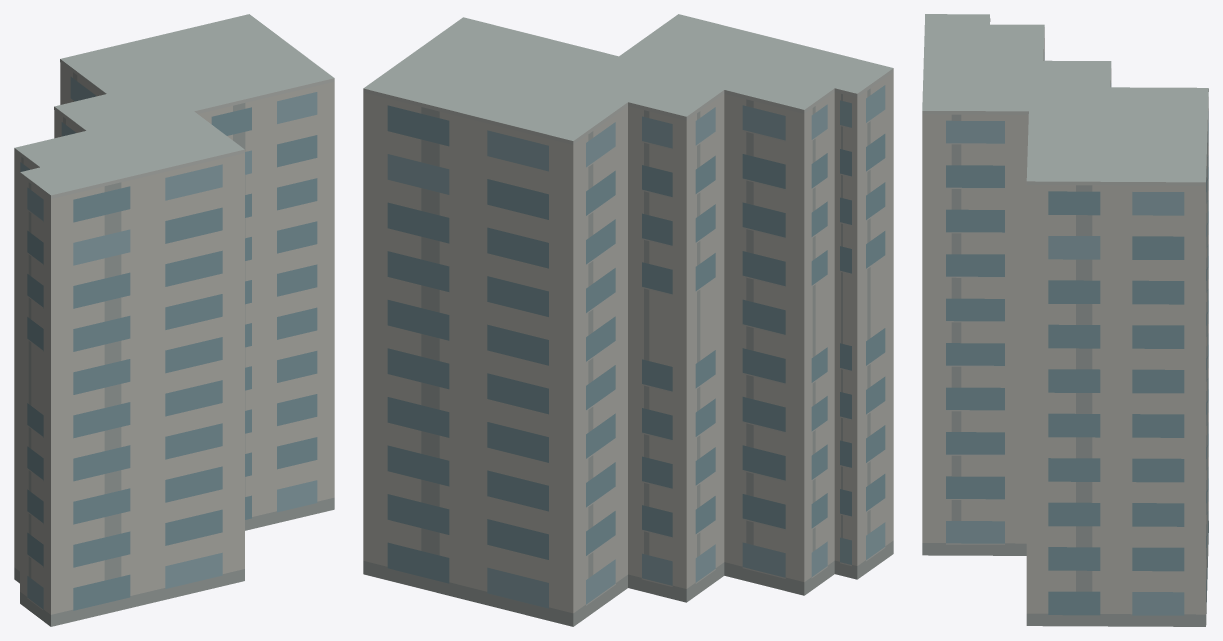
File: residential-bd0d89b5-0c00-43a0-84ae-d69a02db9766.glb
The picture shows the model from 3 angles, left to right: view 1: azimuth 30°, elevation 25°; view 2: azimuth 150°, elevation 25°; view 3: azimuth 270°, elevation 25°; orthographic projection. The views are drawn at different scales.
Visible parts, largest first — view 1: residential-bd0d89b5-0c00-43a0-84ae-d69a02db9766.tmp; view 2: residential-bd0d89b5-0c00-43a0-84ae-d69a02db9766.tmp; view 3: residential-bd0d89b5-0c00-43a0-84ae-d69a02db9766.tmp.
Boxes of the visible parts, x1,y1,x2,y2 form: residential-bd0d89b5-0c00-43a0-84ae-d69a02db9766.tmp: [14, 14, 334, 626]; residential-bd0d89b5-0c00-43a0-84ae-d69a02db9766.tmp: [363, 14, 893, 626]; residential-bd0d89b5-0c00-43a0-84ae-d69a02db9766.tmp: [922, 14, 1208, 626].
Bounding box in the file's own units: 24.37 × 30 × 17.53.
